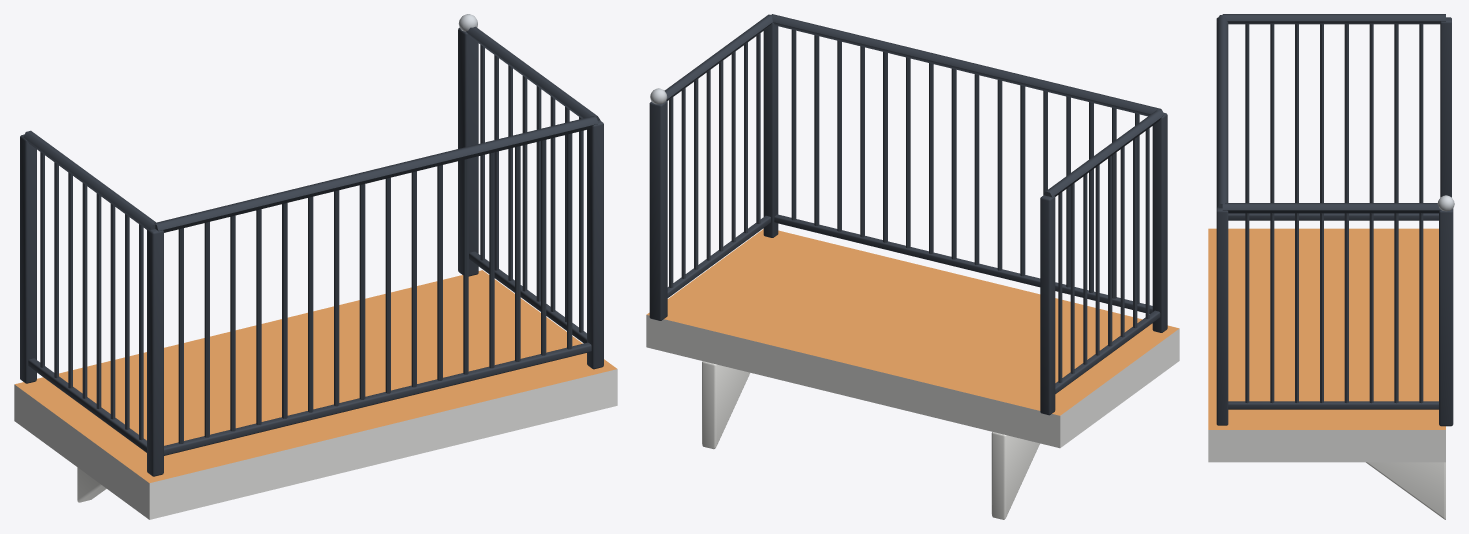
The model's file is sacada_2x1m_metal.glb.
3 renders of one model, left to right at view 1: azimuth 30°, elevation 25°; view 2: azimuth 150°, elevation 25°; view 3: azimuth 270°, elevation 25°, orthographic. The views are drawn at different scales.
Visible parts, largest first — view 1: sacada_2x1m_metal; view 2: sacada_2x1m_metal; view 3: sacada_2x1m_metal.
Part boxes in pixels (bbox=[...]): sacada_2x1m_metal: bbox=[14, 14, 617, 519]; sacada_2x1m_metal: bbox=[646, 14, 1179, 519]; sacada_2x1m_metal: bbox=[1208, 14, 1454, 519].
Size of the model in its own units: 2 by 1.6 by 1.04.
3 materials, 1 textured.
